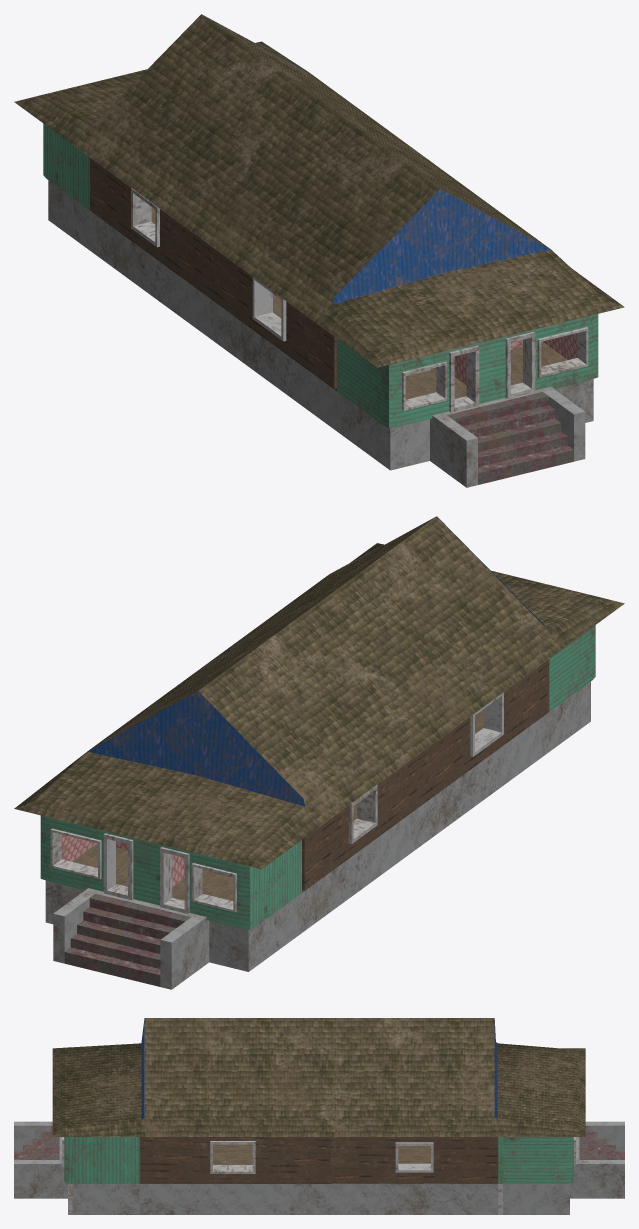
Rendered from russian_house_low-poly_model.glb.
3 renders of one model, top to bottom at view 1: azimuth 30°, elevation 25°; view 2: azimuth 150°, elevation 25°; view 3: azimuth 270°, elevation 25°, orthographic. The views are drawn at different scales.
Parts seen in each view (by area): view 1: Cube; view 2: Cube; view 3: Cube.
Part boxes in pixels (x1=…): Cube: x1=14, y1=14, x2=624, y2=487; Cube: x1=14, y1=516, x2=624, y2=989; Cube: x1=14, y1=1018, x2=624, y2=1214.
Bounding box in the file's own units: 878 × 741 × 2556.
Materials: 1 (1 with a texture image).
